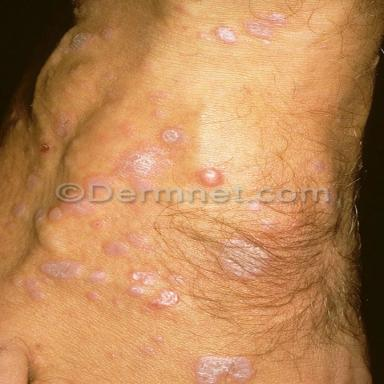lichen: (117, 128, 186, 189), (219, 239, 271, 279), (195, 356, 255, 384), (245, 12, 286, 39), (41, 260, 81, 279), (149, 289, 178, 309), (25, 278, 45, 300), (214, 26, 238, 44), (104, 241, 129, 257), (132, 271, 156, 285), (309, 158, 327, 174), (126, 234, 147, 247), (259, 219, 277, 233), (89, 271, 106, 283), (127, 286, 145, 297), (48, 207, 62, 221), (167, 275, 184, 284), (86, 291, 99, 301)
